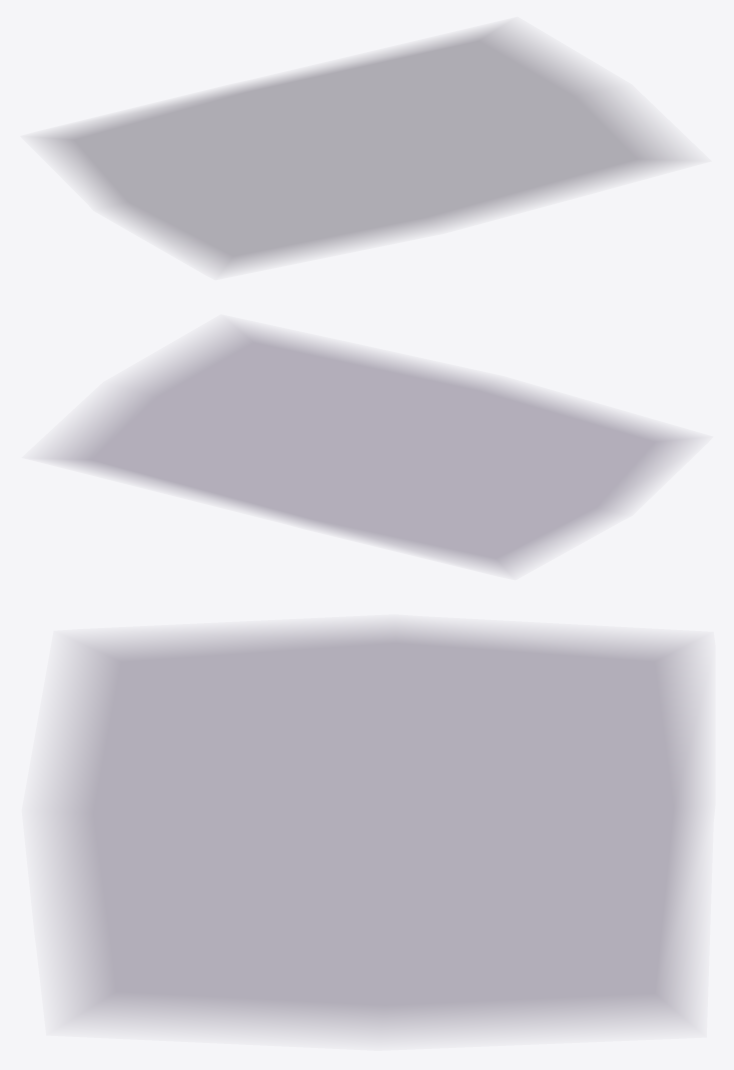
The picture shows the model from 3 angles, top to bottom: view 1: azimuth 30°, elevation 25°; view 2: azimuth 150°, elevation 25°; view 3: azimuth 270°, elevation 25°; orthographic projection. The views are drawn at different scales.
Parts seen in each view (by area): view 1: Joint_0_Object_0; view 2: Joint_0_Object_0; view 3: Joint_0_Object_0.
Part boxes in pixels (box(x1,y1,x2,y2)): Joint_0_Object_0: box(43, 27, 679, 269); Joint_0_Object_0: box(51, 326, 688, 570); Joint_0_Object_0: box(52, 627, 697, 1031).
Size of the model in its own units: 1371 by 0 by 920.
1 material, 1 textured.
